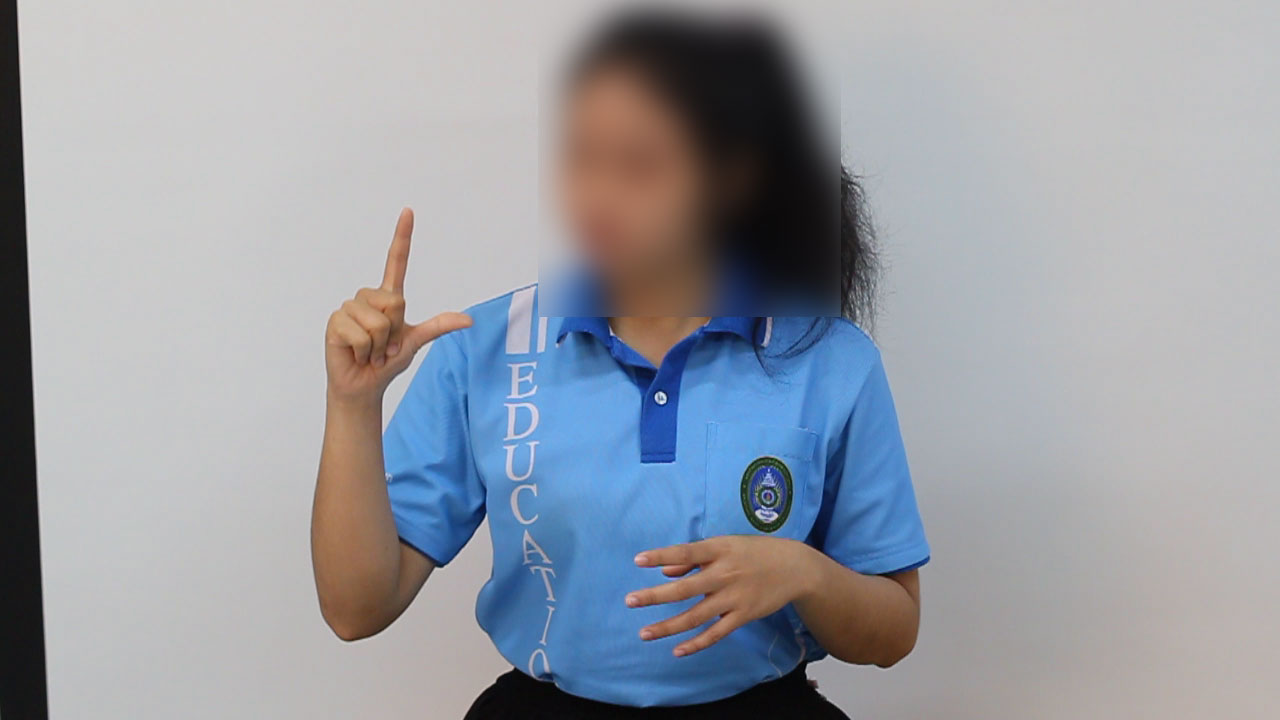lor: (274, 195, 484, 457)
